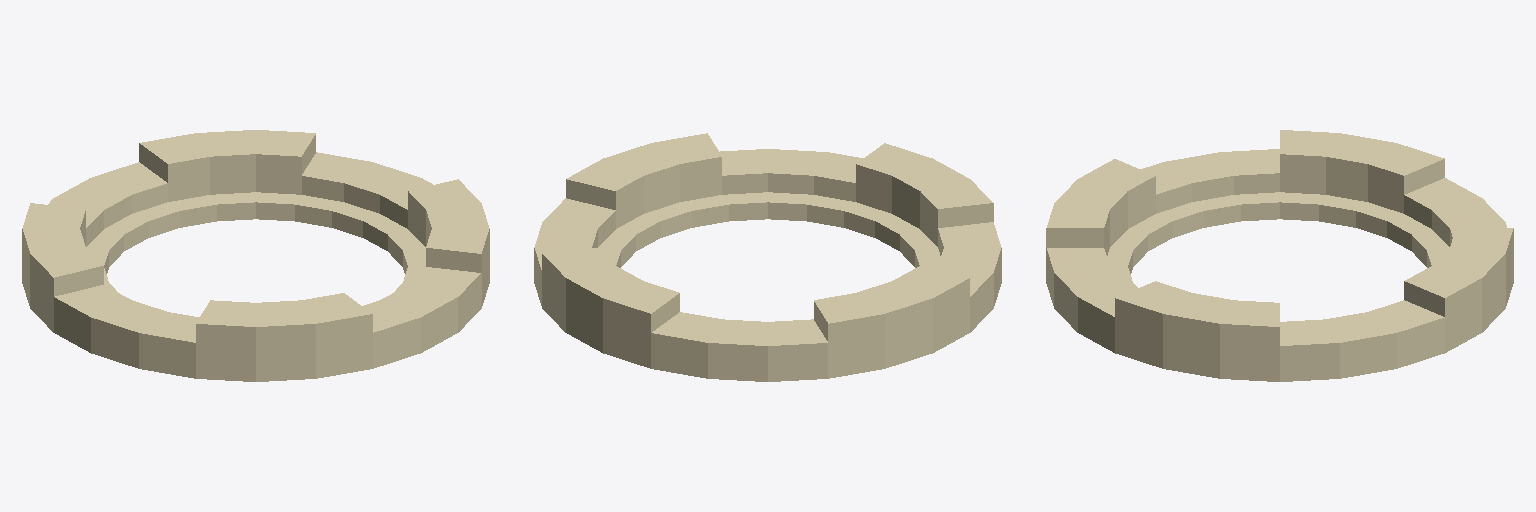
File: towerTop.obj
3 renders of one model, left to right at view 1: azimuth 30°, elevation 25°; view 2: azimuth 150°, elevation 25°; view 3: azimuth 270°, elevation 25°, orthographic.
Parts seen in each view (by area): view 1: towerTop; view 2: towerTop; view 3: towerTop.
Boxes of the visible parts, box(x1,y1,x2,y2) form: towerTop: box(22, 130, 489, 381); towerTop: box(534, 133, 1001, 381); towerTop: box(1046, 130, 1513, 381).
Bounding box in the file's own units: 10 × 1.3 × 10.